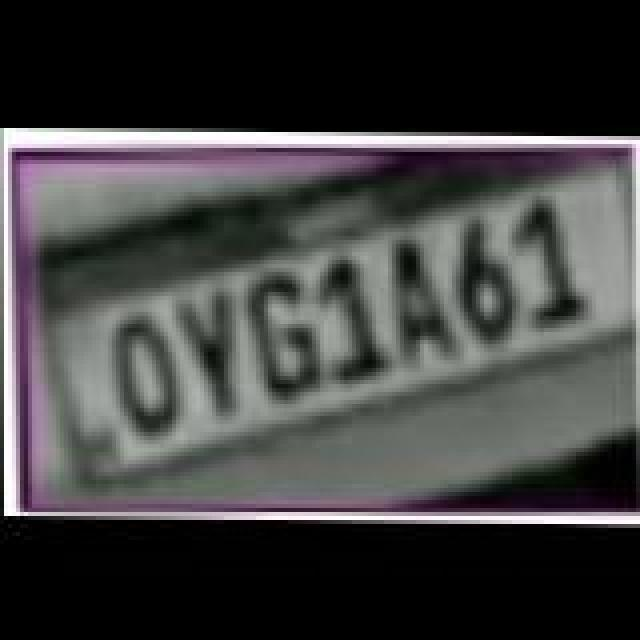1: (516, 196, 592, 328), (318, 252, 390, 380)
6: (452, 220, 520, 344)
A: (386, 232, 458, 360)
G: (248, 272, 324, 400)
O: (114, 312, 186, 436)
Y: (174, 288, 246, 412)
